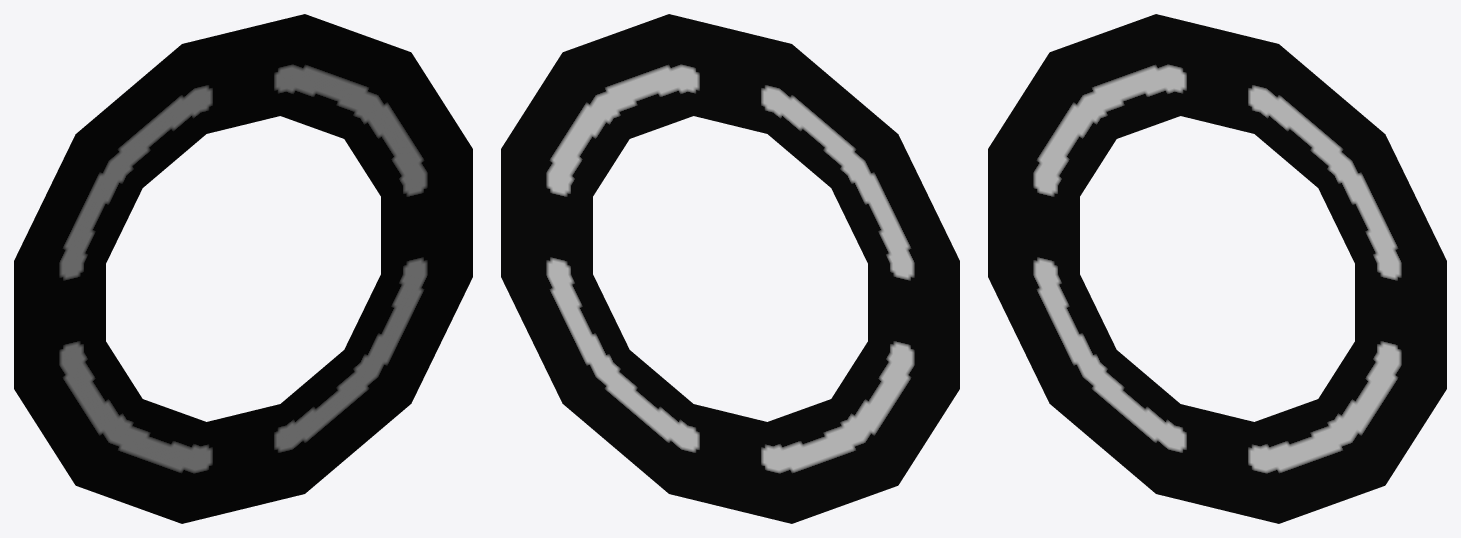
The picture shows the model from 3 angles, left to right: view 1: azimuth 30°, elevation 25°; view 2: azimuth 150°, elevation 25°; view 3: azimuth 330°, elevation 25°; orthographic projection.
Parts seen in each view (by area): view 1: Joint_0_Object_0; view 2: Joint_0_Object_0; view 3: Joint_0_Object_0.
Boxes of the visible parts, x1,y1,x2,y2 form: Joint_0_Object_0: (14,14,472,523); Joint_0_Object_0: (501,14,959,523); Joint_0_Object_0: (988,14,1446,523).
Bounding box in the file's own units: 90.88 × 90.88 × 0.
Materials: 1 (1 with a texture image).
